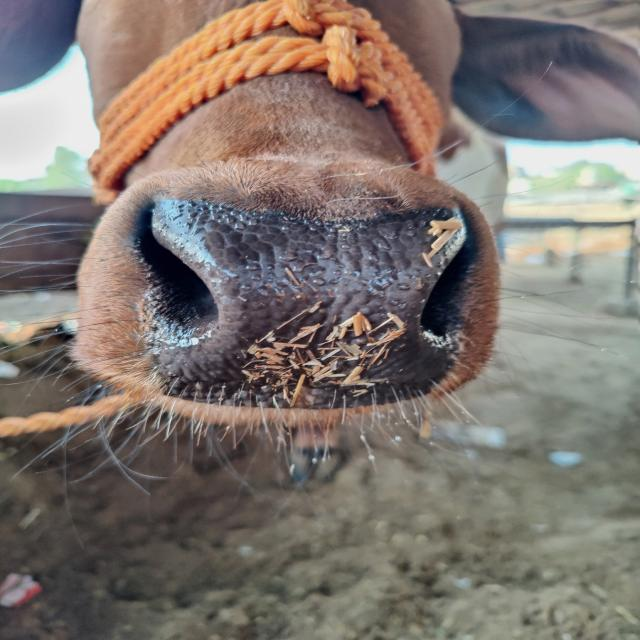muzzles: (126, 181, 490, 421)
